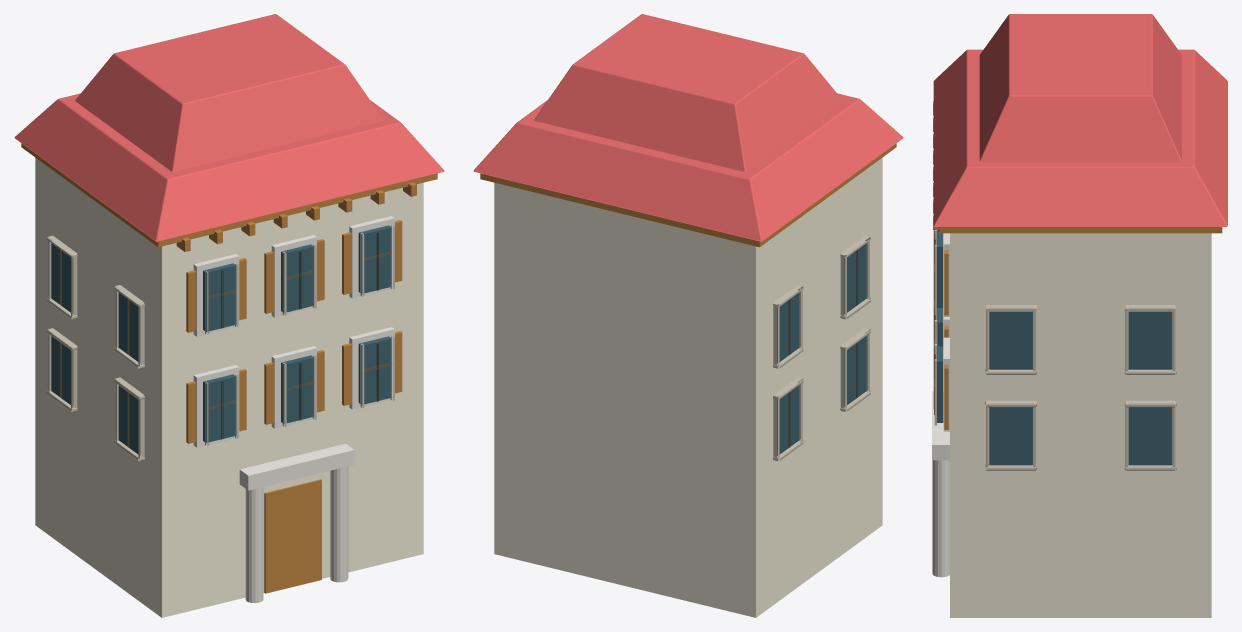
Rendered from city_runtime_03.glb.
The picture shows the model from 3 angles, left to right: view 1: azimuth 30°, elevation 25°; view 2: azimuth 150°, elevation 25°; view 3: azimuth 270°, elevation 25°; orthographic projection. The views are drawn at different scales.
Parts seen in each view (by area): view 1: Exterior architecture detail 3; view 2: Exterior architecture detail 3; view 3: Exterior architecture detail 3.
Part boxes in pixels (x1,y1,x2,y2): Exterior architecture detail 3: [14, 14, 444, 617]; Exterior architecture detail 3: [473, 14, 903, 617]; Exterior architecture detail 3: [932, 14, 1227, 617].
Size of the model in its own units: 8.17 by 13 by 7.01.
